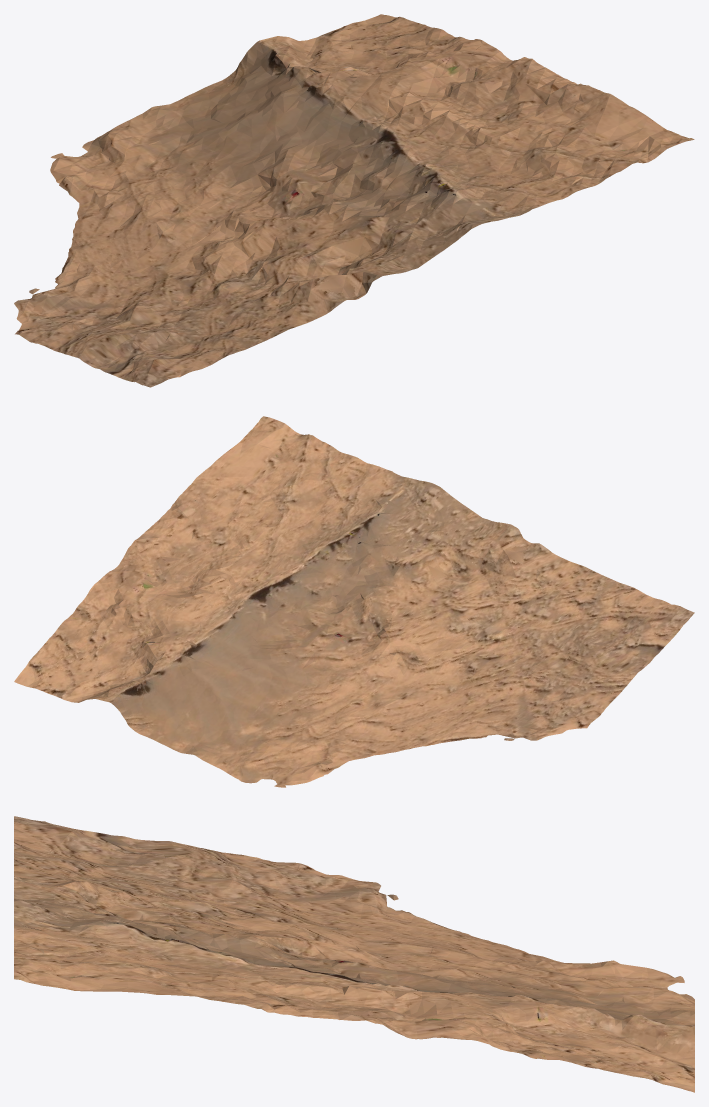
3 renders of one model, top to bottom at view 1: azimuth 30°, elevation 25°; view 2: azimuth 150°, elevation 25°; view 3: azimuth 270°, elevation 25°, orthographic. The views are drawn at different scales.
Bounding box in the file's own units: 1.04 × 0.2961 × 1.04.
2 materials, 2 textured.
